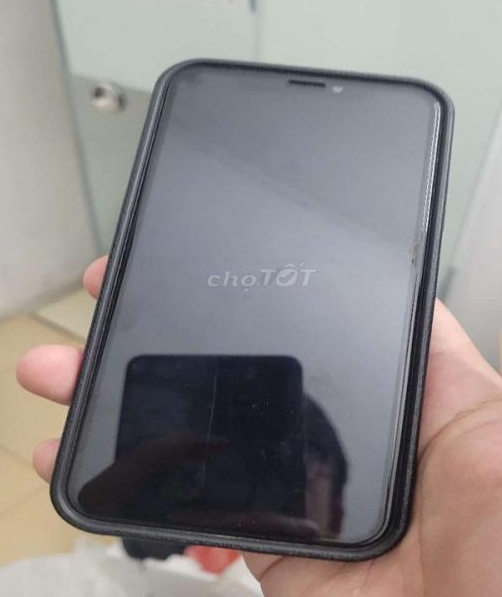physical_damage: (397, 226, 433, 272)
